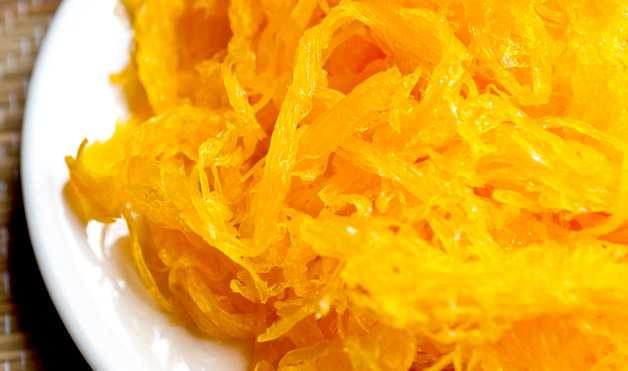foitong: (122, 7, 624, 359), (189, 154, 595, 360), (80, 117, 308, 272), (291, 59, 567, 167)
